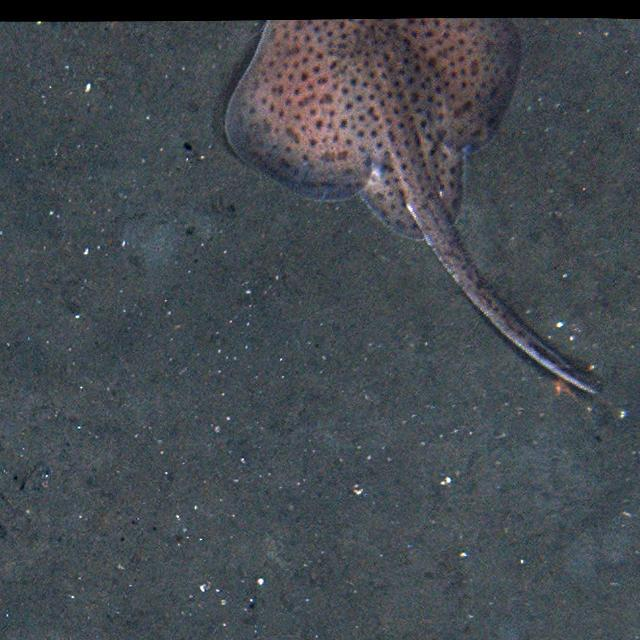skate: (213, 16, 604, 402)
